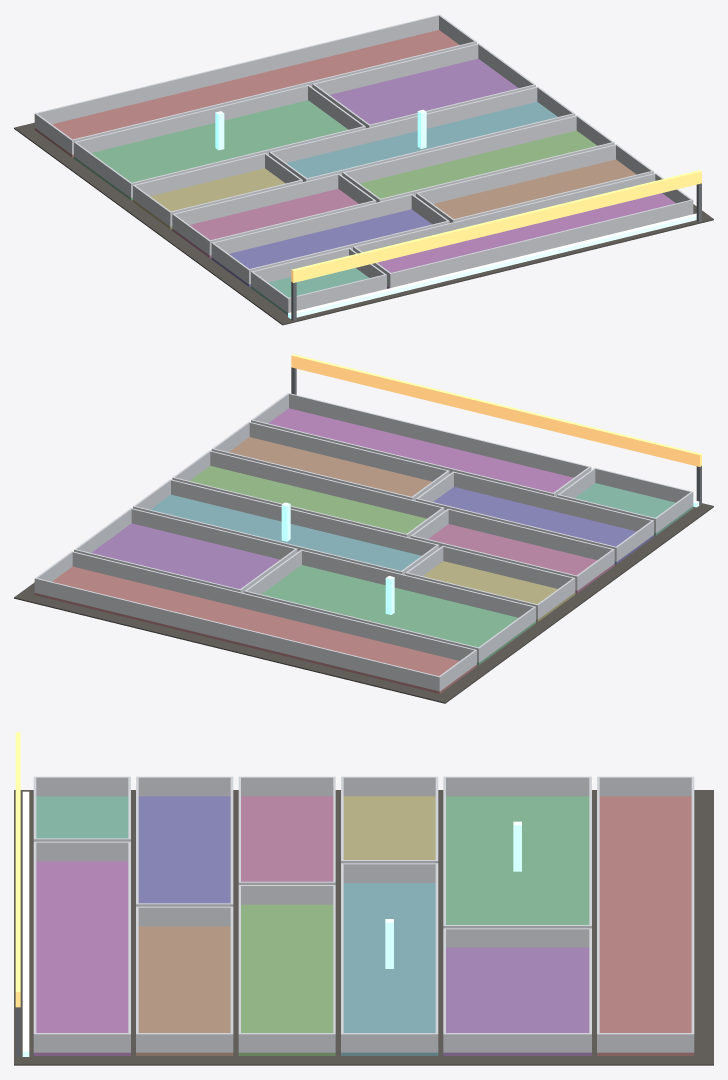
Rendered from hall-waterproofers.glb.
3 views of the same model, one above another, from view 1: azimuth 30°, elevation 25°; view 2: azimuth 150°, elevation 25°; view 3: azimuth 270°, elevation 25° (orthographic). The views are drawn at different scales.
Visible parts, largest first — view 1: Below-Grade Waterproofers; view 2: Below-Grade Waterproofers; view 3: Below-Grade Waterproofers.
Part boxes in pixels (<box>): Below-Grade Waterproofers: <box>14,14,713,325</box>; Below-Grade Waterproofers: <box>14,354,713,703</box>; Below-Grade Waterproofers: <box>14,732,713,1065</box>.
Size of the model in its own units: 38 by 4.3 by 41.
